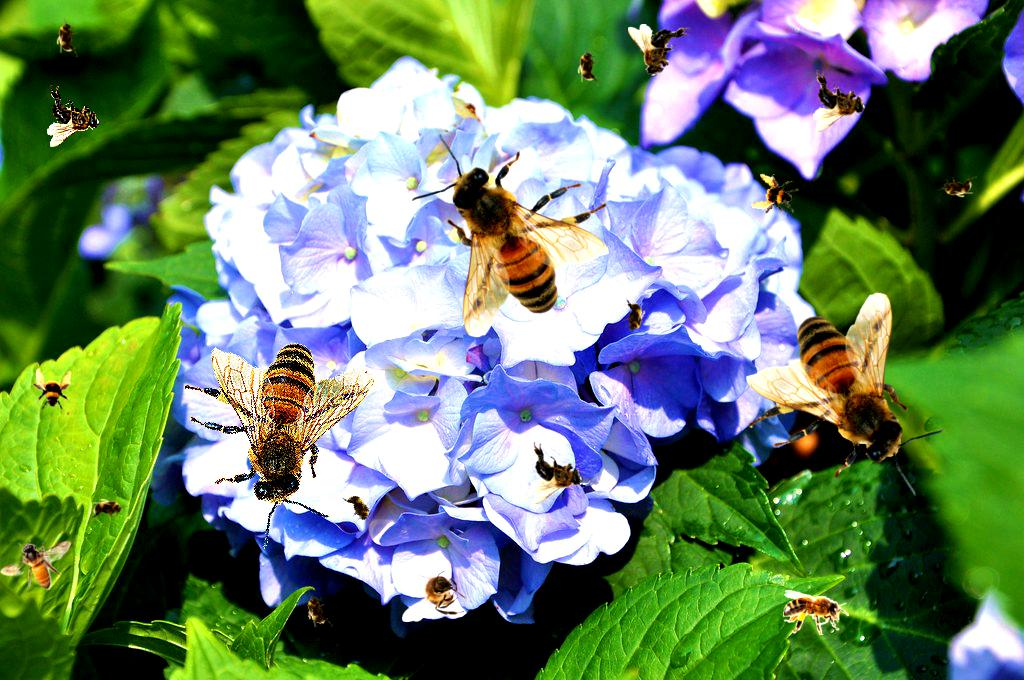Bee: (136, 283, 421, 569), (746, 292, 945, 496), (410, 134, 609, 338), (402, 561, 472, 622), (0, 540, 71, 590), (628, 24, 690, 77), (530, 442, 583, 504), (813, 70, 866, 132), (47, 85, 100, 147), (783, 590, 849, 635), (748, 170, 802, 224), (29, 368, 73, 412), (339, 485, 379, 531), (300, 587, 334, 633), (620, 295, 648, 339), (56, 17, 78, 57), (577, 46, 599, 86), (88, 498, 128, 520), (937, 176, 977, 198)
